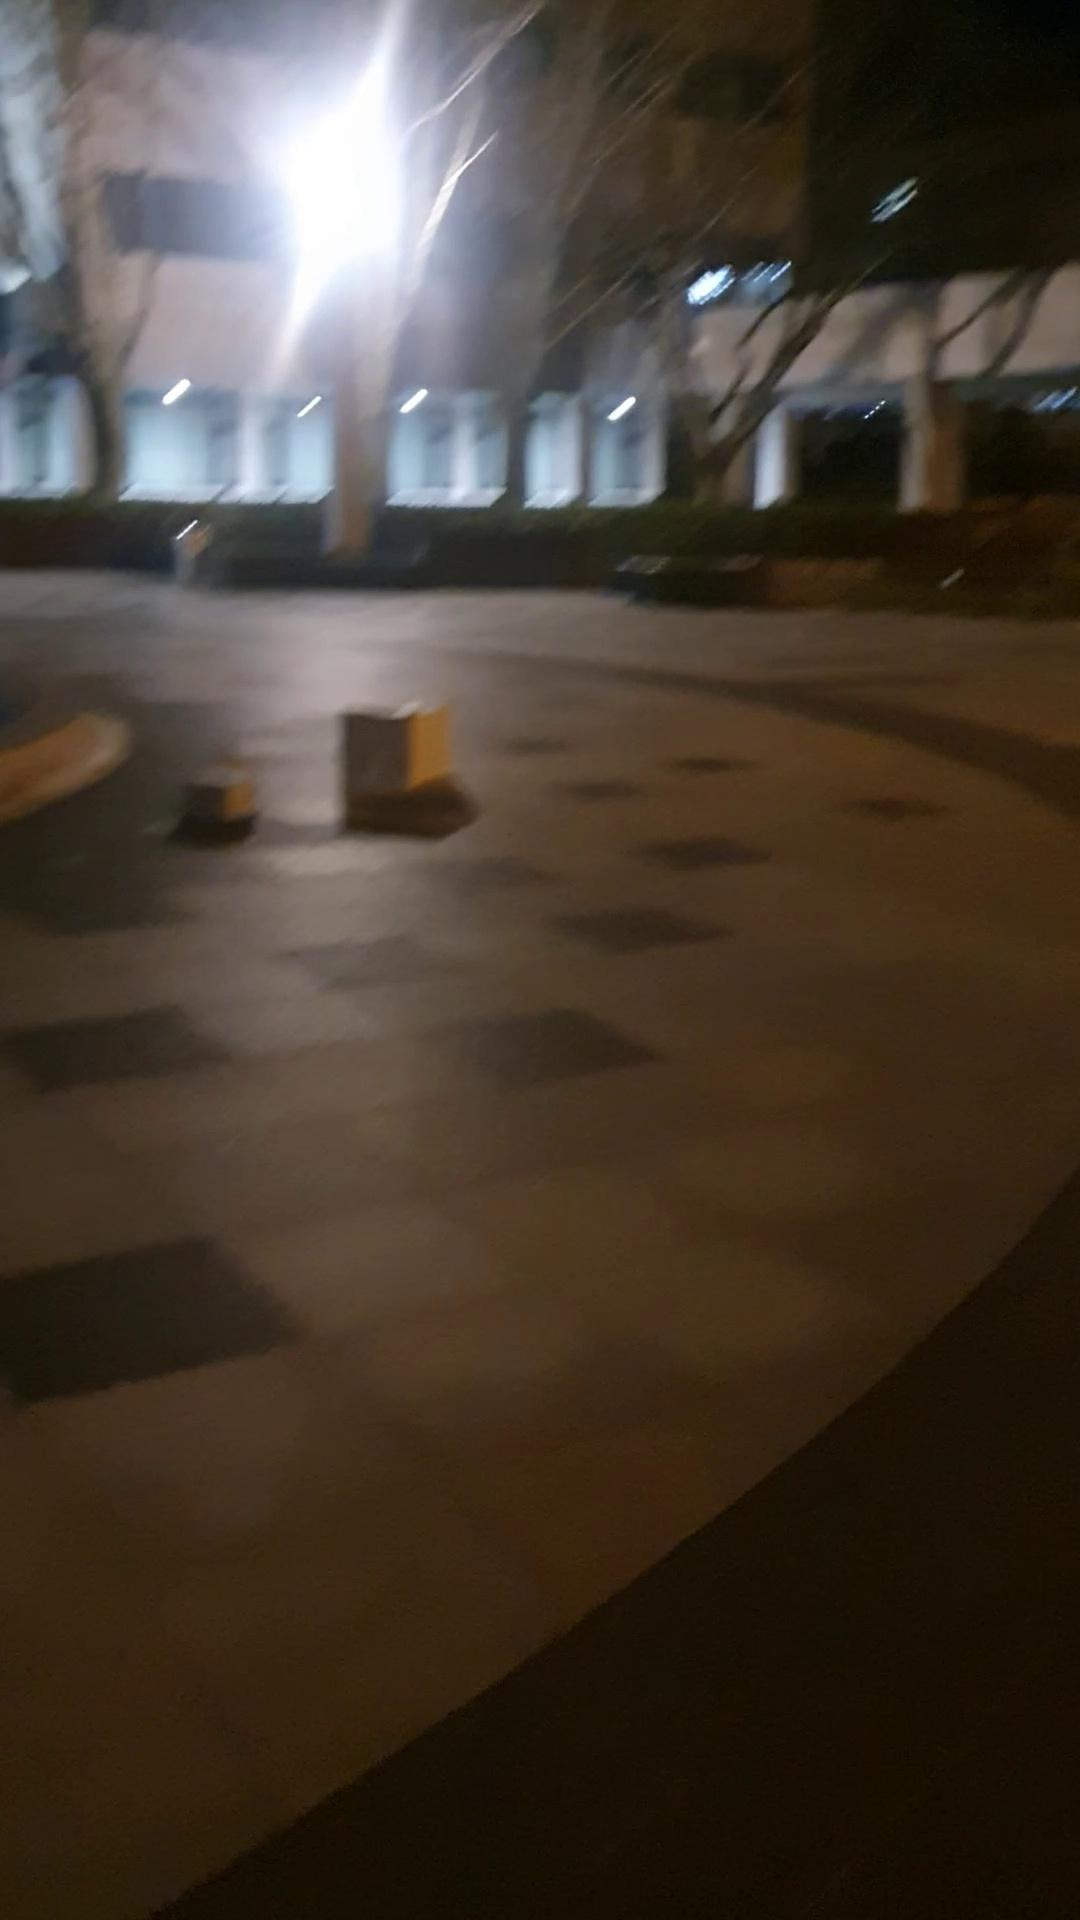Box: (338, 694, 450, 808), (189, 764, 262, 823)
